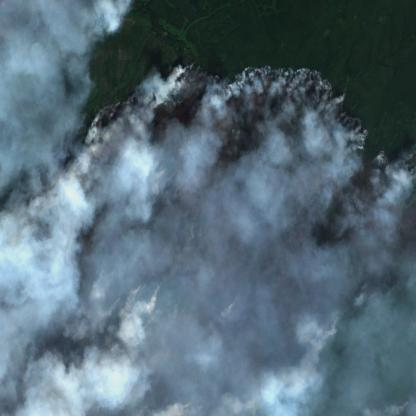fire: (0, 56, 415, 416)
